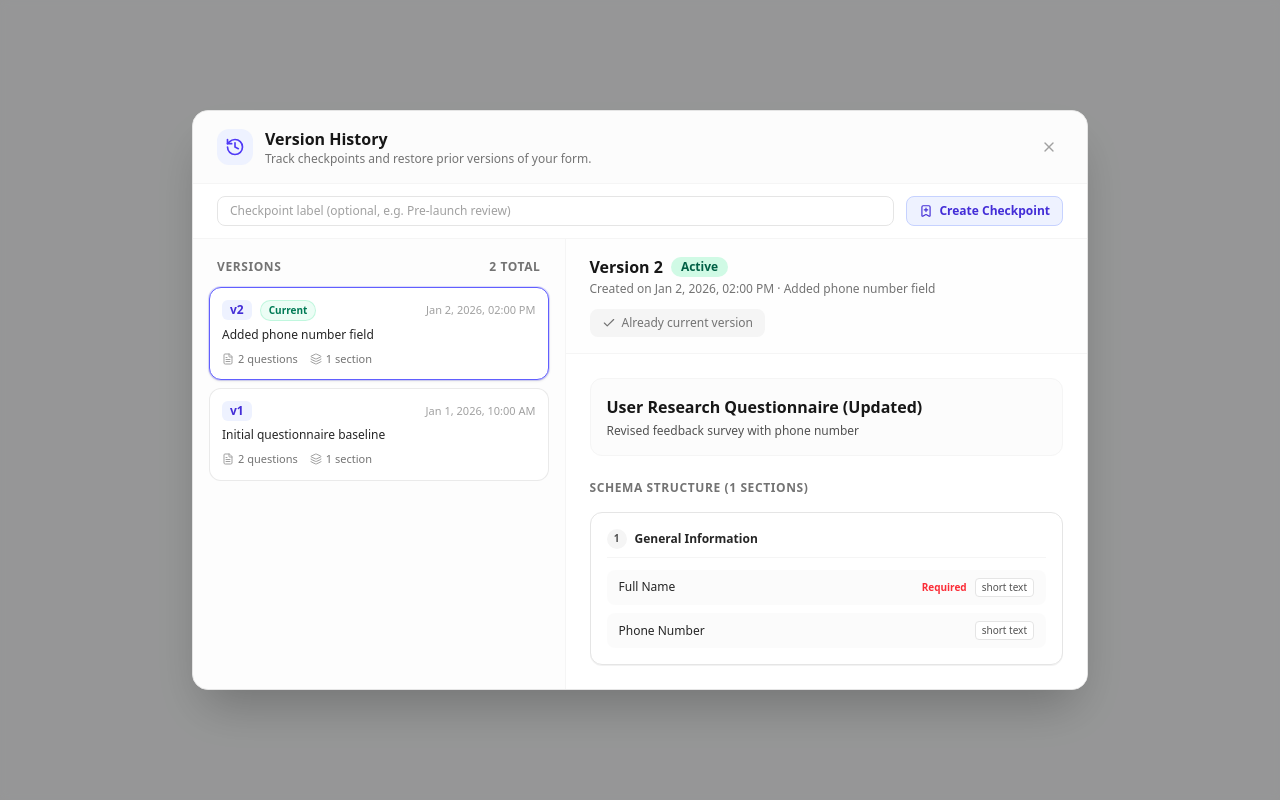
Test: Field Comments & Version History Feature › VersionHistoryModal › creates a new named checkpoint snapshot
Type "Before client demo" into the field with placeholder "Checkpoint label (optional, e.g. Pre-launch review)" at (556, 211), box [217, 196, 894, 226]
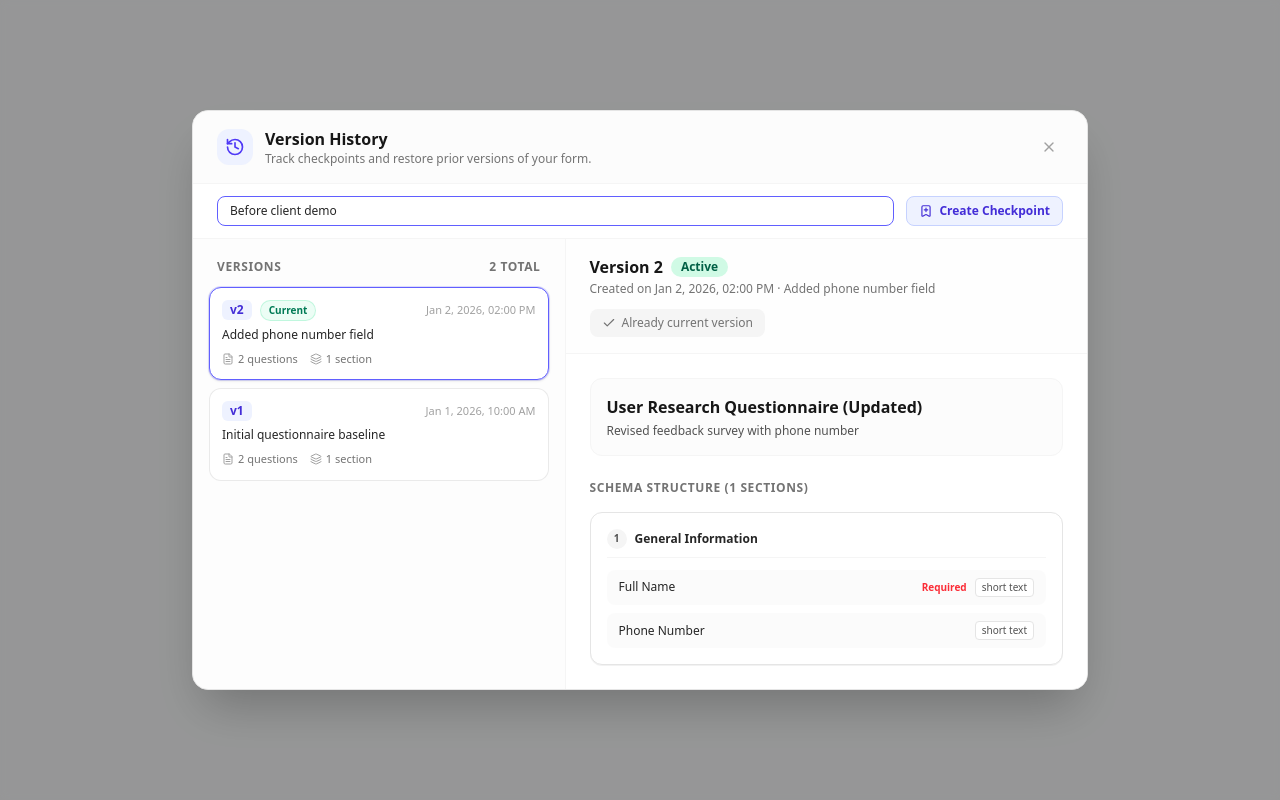
Click the button "Create Checkpoint" at (985, 211), box [906, 196, 1063, 226]
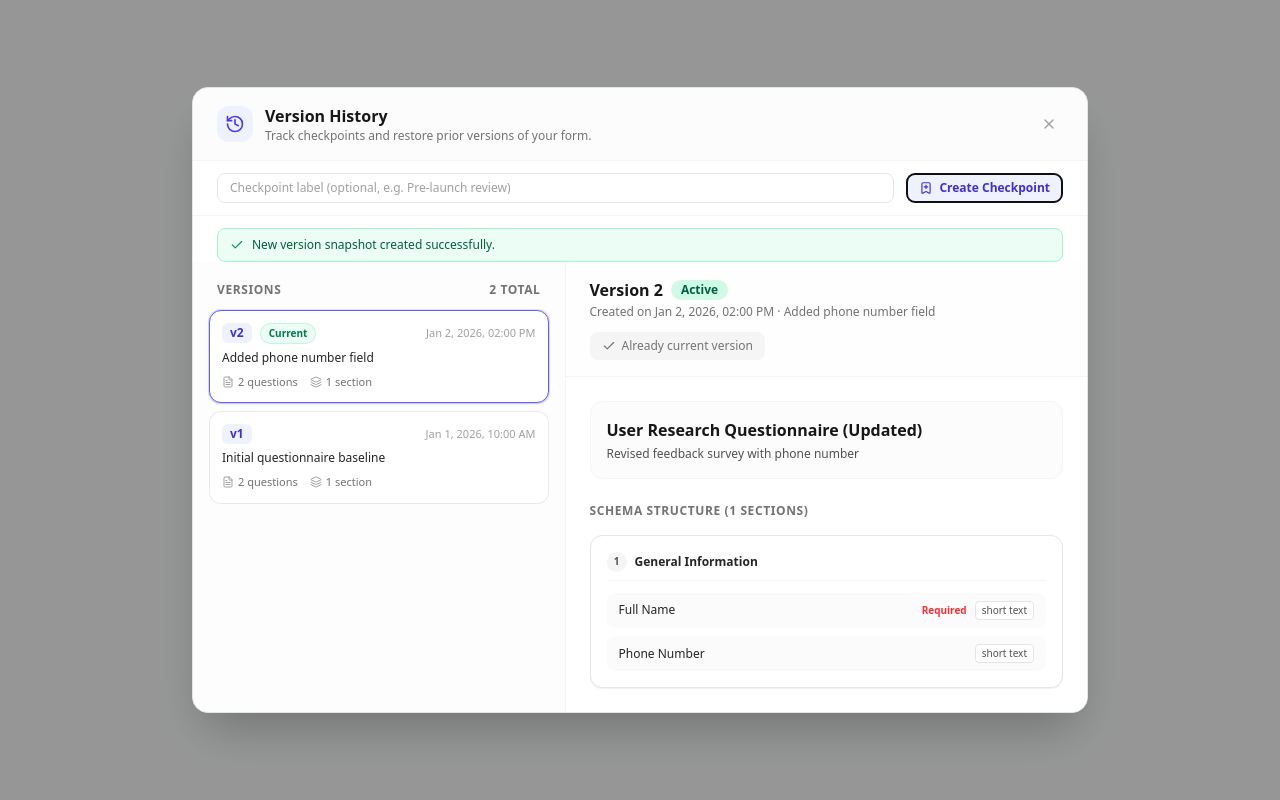
Expected: the text "New version snapshot created successfully." is shown, [252, 237, 495, 253]
